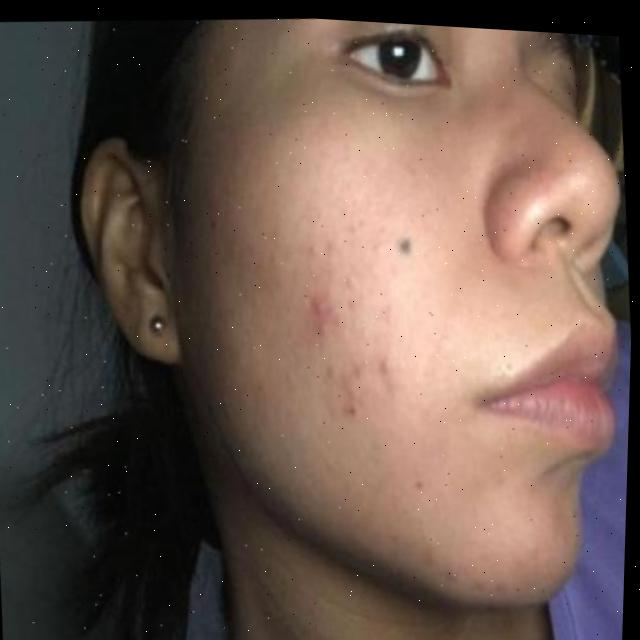Acne: (184, 189, 438, 445)
